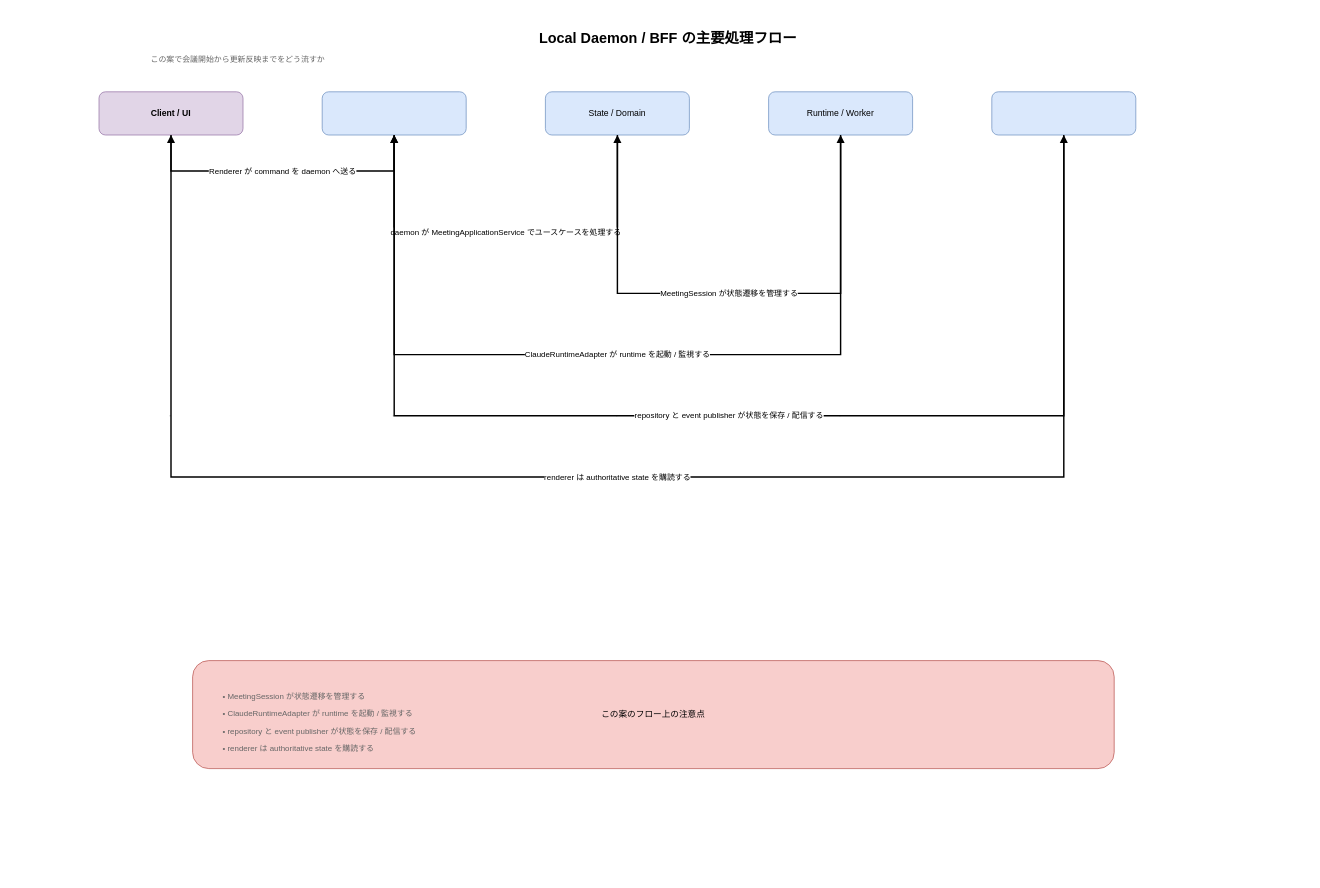
This 1320x888 diagram has some shape labels left out. Each missing label, with the centre of its shape:
"Coordinator" goes at (x=393, y=113).
"Updates / Output" goes at (x=1063, y=113).
